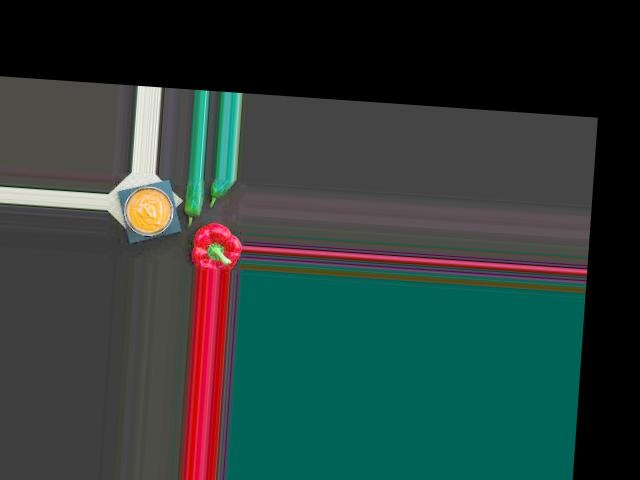bell_pepper: (190, 223, 241, 270)
